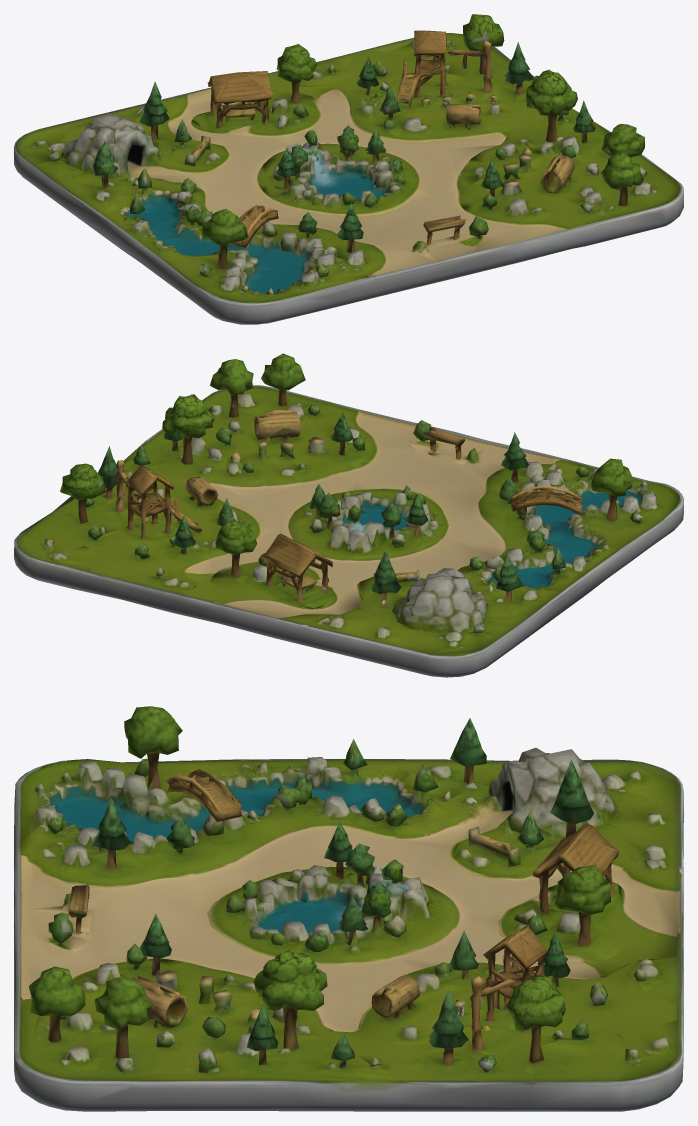
Rendered from park-landscape.glb.
The picture shows the model from 3 angles, top to bottom: view 1: azimuth 30°, elevation 25°; view 2: azimuth 150°, elevation 25°; view 3: azimuth 270°, elevation 25°; orthographic projection. The views are drawn at different scales.
Visible parts, largest first — view 1: tripo_part_0, tripo_part_1, tripo_part_17, tripo_part_2, tripo_part_4, tripo_part_5, tripo_part_3, tripo_part_22, tripo_part_18, tripo_part_23, tripo_part_15, tripo_part_12 (+13 smaller); view 2: tripo_part_0, tripo_part_1, tripo_part_17, tripo_part_2, tripo_part_5, tripo_part_4, tripo_part_3, tripo_part_23, tripo_part_22, tripo_part_24, tripo_part_11, tripo_part_16 (+10 smaller); view 3: tripo_part_0, tripo_part_1, tripo_part_17, tripo_part_5, tripo_part_2, tripo_part_4, tripo_part_23, tripo_part_18, tripo_part_3, tripo_part_11, tripo_part_22, tripo_part_15 (+24 smaller).
Part boxes in pixels (<box>): tripo_part_0: <box>14,33,683,324</box>; tripo_part_1: <box>299,30,544,141</box>; tripo_part_17: <box>449,109,671,225</box>; tripo_part_2: <box>60,112,159,186</box>; tripo_part_4: <box>194,44,322,137</box>; tripo_part_5: <box>257,141,419,216</box>; tripo_part_3: <box>207,71,273,128</box>; tripo_part_22: <box>287,130,405,199</box>; tripo_part_18: <box>148,119,230,171</box>; tripo_part_23: <box>526,69,577,141</box>; tripo_part_15: <box>202,208,247,268</box>; tripo_part_12: <box>601,153,643,206</box>; tripo_part_0: <box>14,385,683,677</box>; tripo_part_1: <box>47,446,261,588</box>; tripo_part_17: <box>123,391,379,500</box>; tripo_part_2: <box>392,568,513,632</box>; tripo_part_5: <box>288,488,450,561</box>; tripo_part_4: <box>210,520,337,608</box>; tripo_part_3: <box>261,533,332,599</box>; tripo_part_23: <box>162,394,214,464</box>; tripo_part_22: <box>325,491,398,548</box>; tripo_part_24: <box>511,485,583,519</box>; tripo_part_11: <box>60,463,105,523</box>; tripo_part_16: <box>210,359,253,417</box>; tripo_part_0: <box>14,757,683,1111</box>; tripo_part_1: <box>352,924,676,1081</box>; tripo_part_17: <box>29,958,370,1079</box>; tripo_part_5: <box>207,865,460,964</box>; tripo_part_2: <box>474,747,617,836</box>; tripo_part_4: <box>499,864,626,961</box>; tripo_part_23: <box>254,950,327,1052</box>; tripo_part_18: <box>451,811,565,880</box>; tripo_part_3: <box>532,823,619,920</box>; tripo_part_11: <box>506,974,565,1063</box>; tripo_part_22: <box>243,859,421,945</box>; tripo_part_15: <box>124,706,182,789</box>.
Bounding box in the file's own units: 1 × 0.1825 × 0.8723.
Materials: 1 (1 with a texture image).
